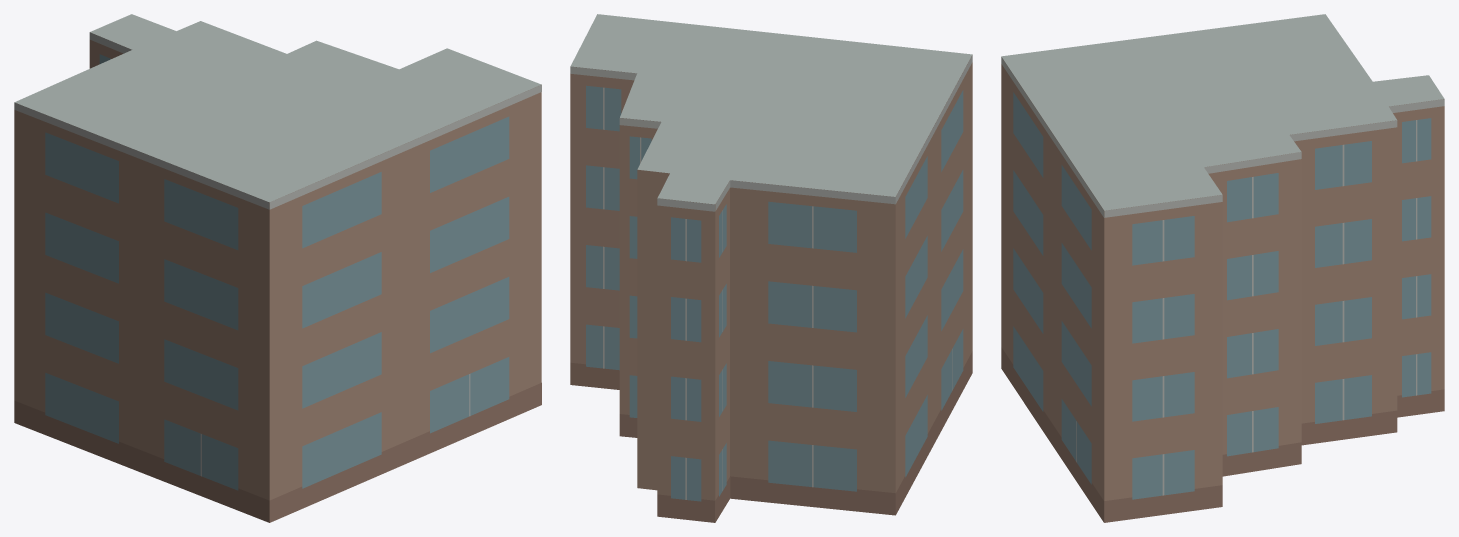
Rendered from survey-upis-32524212.glb.
3 renders of one model, left to right at view 1: azimuth 30°, elevation 25°; view 2: azimuth 150°, elevation 25°; view 3: azimuth 270°, elevation 25°, orthographic. The views are drawn at different scales.
Visible parts, largest first — view 1: survey-upis-32524212.tmp; view 2: survey-upis-32524212.tmp; view 3: survey-upis-32524212.tmp.
Boxes of the visible parts, box(x1,y1,x2,y2) form: survey-upis-32524212.tmp: box(14, 14, 541, 522); survey-upis-32524212.tmp: box(570, 14, 972, 522); survey-upis-32524212.tmp: box(1001, 14, 1444, 522).
Bounding box in the file's own units: 14.33 × 10.6 × 13.65.
